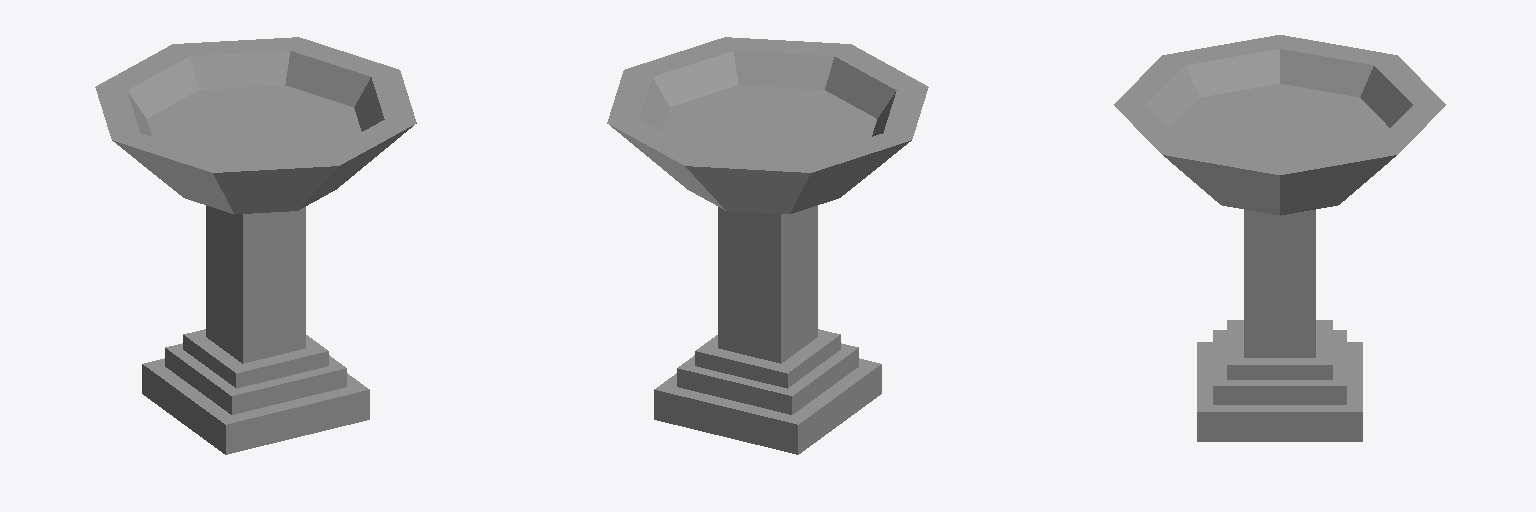
The picture shows the model from 3 angles: view 1: azimuth 30°, elevation 25°; view 2: azimuth 150°, elevation 25°; view 3: azimuth 270°, elevation 25°; orthographic projection.
Parts seen in each view (by area): view 1: Fountain; view 2: Fountain; view 3: Fountain.
Part boxes in pixels (bbox=[...]): Fountain: bbox=[95, 37, 416, 454]; Fountain: bbox=[607, 37, 928, 454]; Fountain: bbox=[1114, 35, 1445, 441].
Bounding box in the file's own units: 1.2 × 1.2 × 1.2.